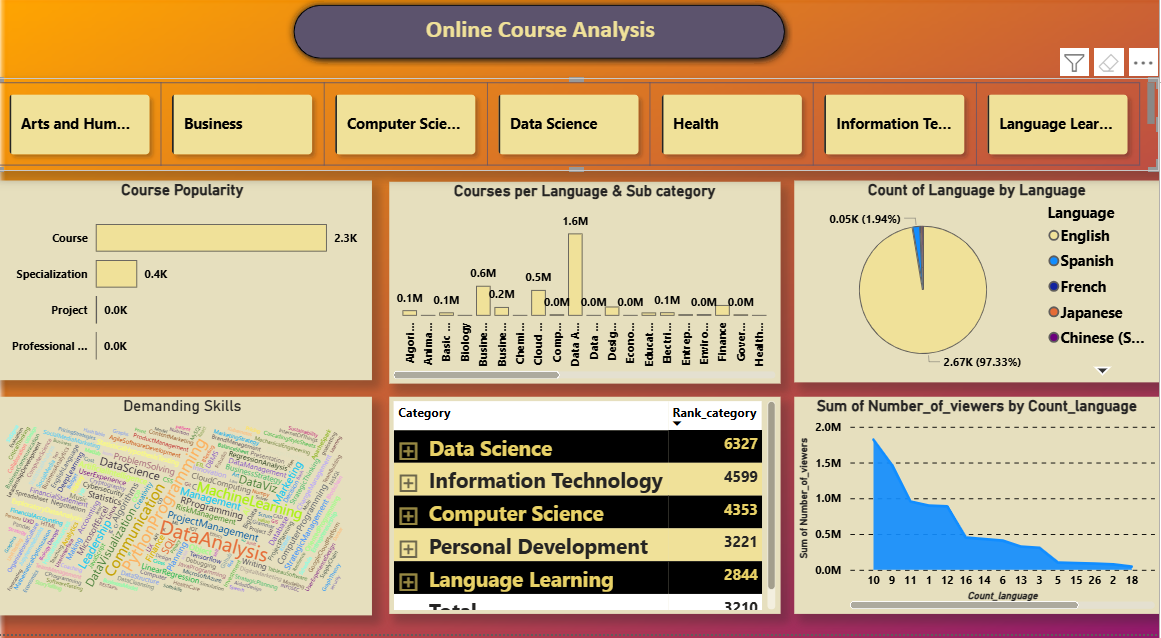

The dashboard page shown, as its layout file describes it:
{"tool":"powerbi","page":{"name":"Page 1","canvas":[1280,720],"ordinal":0},"visuals":[{"type":"shape","box":[321.1,20.6,557.1,76.8],"z":0},{"type":"textbox","box":[415.8,34.3,359.5,48],"z":1000},{"type":"advancedSlicerVisual","fields":{"Values":["Online_Courses.Category"]},"box":[0,110.1,1280.3,101.5],"z":2000},{"type":"barChart","title":"Course Popularity","fields":{"Category":["Online_Courses.Course Type"],"Y":["CountNonNull(Online_Courses.Course ID)"]},"box":[0,222.6,415.8,218.9],"z":3000},{"type":"clusteredColumnChart","title":"Courses per Language & Sub category","fields":{"Category":["Online_Courses.Sub-Category","Online_Courses.Subtitle Languages"],"Y":["Sum(Online_Courses.Number of viewers)"]},"box":[435.3,223.8,429.2,221.3],"z":4000},{"type":"WordCloud1447959067750","title":"Demanding Skills","fields":{"Category":["Online_Courses.Skills"]},"box":[0,459.8,415.8,239.7],"z":5000},{"type":"pieChart","fields":{"Category":["Online_Courses.Language"],"Y":["CountNonNull(Online_Courses.Language)"]},"box":[879.2,222.6,401.1,221.3],"z":6000},{"type":"pivotTable","fields":{"Rows":["Online_Courses.Category","Online_Courses.Language"],"Values":["Online_Courses.Rank_category"]},"box":[435.3,459.8,429.2,238.5],"z":7000},{"type":"areaChart","fields":{"Category":["Online_Courses.Count_language"],"Y":["Sum(Online_Courses.Number_of_viewers)"]},"box":[879,460,401,238],"z":8000}]}

Visuals, with their boxes in screenshot pixels (x1, y1, x2, y2), scaled from the page's 1280x720 canvas onto the 1161x638 screenshot:
shape: 291/18/797/86
textbox: 377/30/703/73
advancedSlicerVisual - Online_Courses.Category: 0/98/1160/188
"Course Popularity" barChart: 0/197/377/391
"Courses per Language & Sub category" clusteredColumnChart: 395/198/784/394
"Demanding Skills" WordCloud1447959067750: 0/407/377/620
pieChart - Online_Courses.Language x CountNonNull(Online_Courses.Language): 797/197/1160/393
pivotTable - Online_Courses.Category x Online_Courses.Language: 395/407/784/619
areaChart - Online_Courses.Count_language x Sum(Online_Courses.Number_of_viewers): 797/408/1160/619
